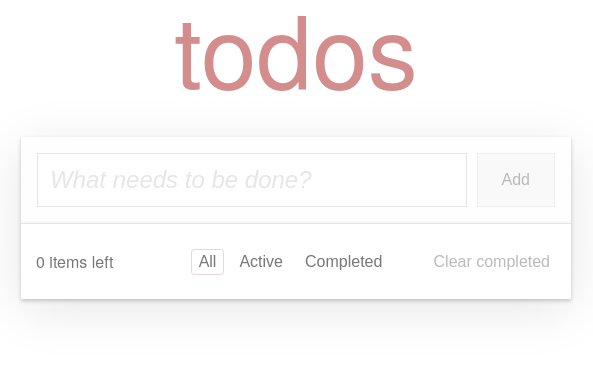
it: App › Добавление новой задачи
Type "New task" into the field with placeholder "What needs to be done?" at (252, 180), box x1=37 y1=153 x2=466 y2=207
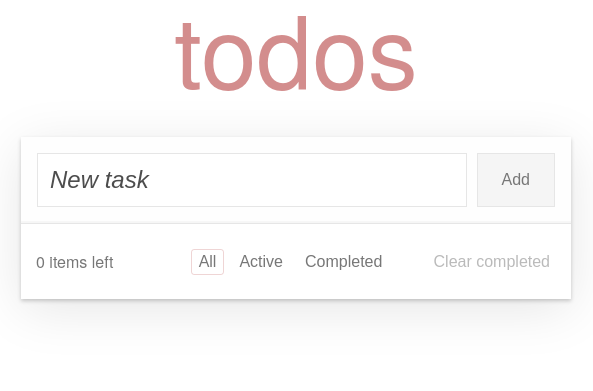
Click the button "Add" at (516, 180), box x1=476 y1=153 x2=555 y2=207
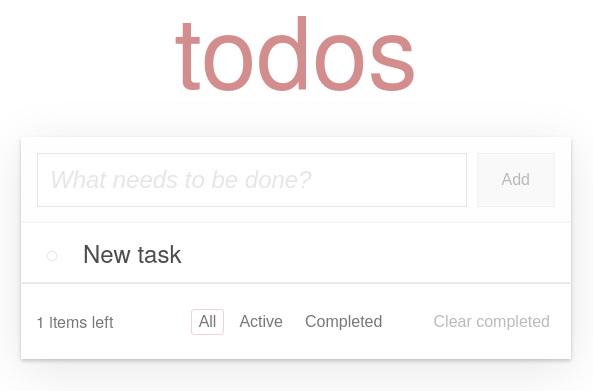
Check: the text "New task" is shown, box x1=83 y1=235 x2=182 y2=270
